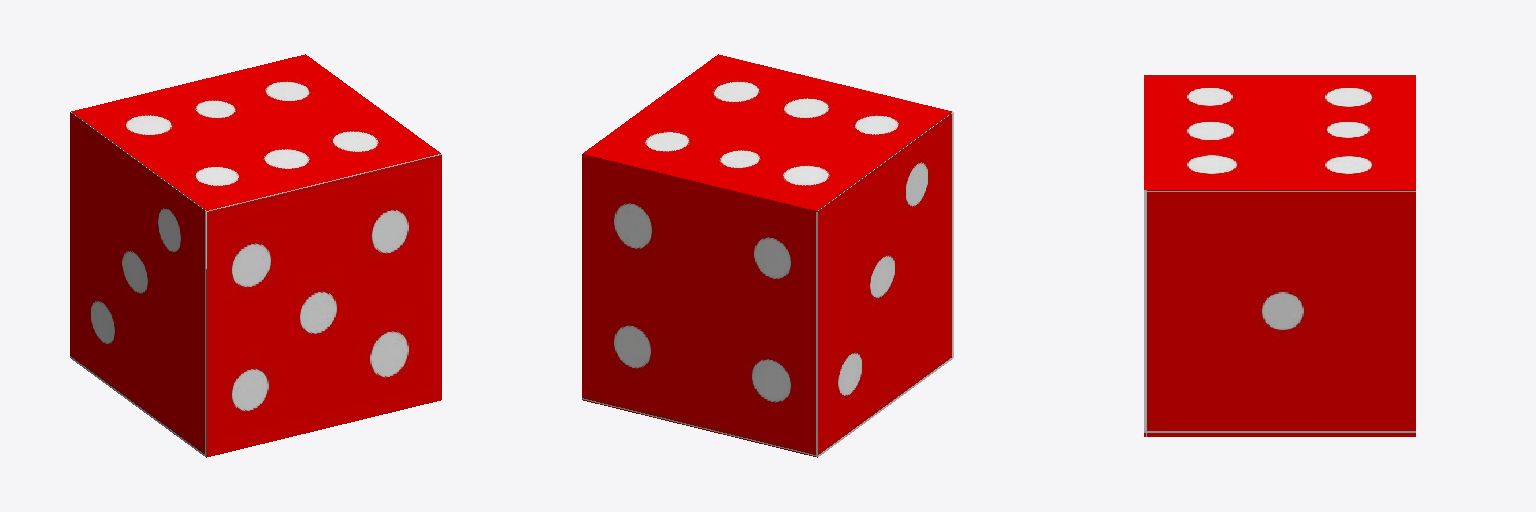
The picture shows the model from 3 angles: view 1: azimuth 30°, elevation 25°; view 2: azimuth 150°, elevation 25°; view 3: azimuth 270°, elevation 25°; orthographic projection.
Parts seen in each view (by area): view 1: Cube; view 2: Cube; view 3: Cube.
Boxes of the visible parts, x1,y1,x2,y2 form: Cube: [70, 54, 441, 457]; Cube: [582, 54, 953, 457]; Cube: [1144, 75, 1415, 436].
Size of the model in its own units: 5.79 by 5.79 by 5.79.
Materials: 1 (1 with a texture image).